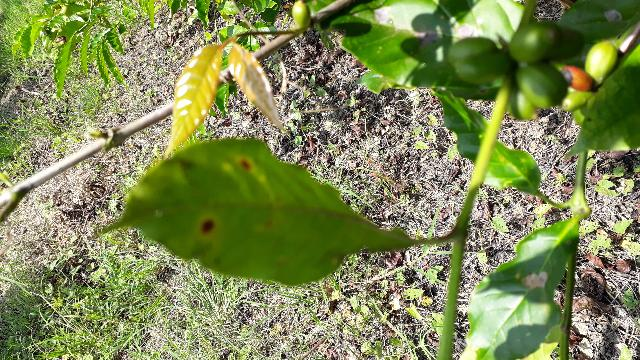rust_level_1: (102, 141, 421, 287)
